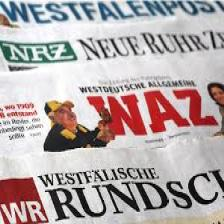paper: (4, 0, 224, 224)
